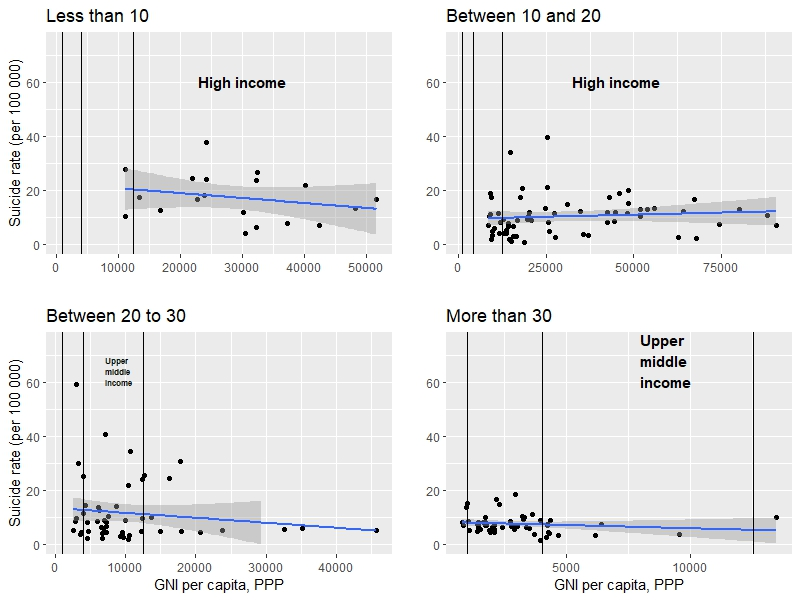

What the dashboard file says about the page in this screenshot:
{"tool":"powerbi","page":{"name":"Page 2","canvas":[1280,720],"ordinal":1},"visuals":[{"type":"scatterChart","title":"Birth rate less than 10 (per 1000)","fields":{"X":["suicide_gni_birth.avg_gni"],"Y":["suicide_gni_birth.avg_birth_rate"]},"box":[9.7,0,640,359.9],"z":0},{"type":"scatterChart","title":"Birth rate between 10 and 20 (per 1000)","fields":{"X":["suicide_gni_birth.avg_gni"],"Y":["suicide_gni_birth.avg_birth_rate"]},"box":[640,0,640,359.9],"z":1},{"type":"scatterChart","title":"Birth rate less between 20 and 30 (per 1000)","fields":{"X":["suicide_gni_birth.avg_gni"],"Y":["suicide_gni_birth.avg_birth_rate"]},"box":[0,359.9,640,359.9],"z":2},{"type":"scatterChart","title":"Birth rate more than 40 (per 1000)","fields":{"X":["suicide_gni_birth.avg_gni"],"Y":["suicide_gni_birth.avg_birth_rate"]},"box":[640,359.9,640,359.9],"z":3}]}

Visuals, with their boxes on the page's 1280x720 design canvas (x1, y1, x2, y2). These are canvas units, not pixel positions in the 800x600 screenshot, which may show the page scaled, cropped or inside an application window:
"Birth rate less than 10 (per 1000)" scatterChart: bbox(10, 0, 650, 360)
"Birth rate between 10 and 20 (per 1000)" scatterChart: bbox(640, 0, 1280, 360)
"Birth rate less between 20 and 30 (per 1000)" scatterChart: bbox(0, 360, 640, 720)
"Birth rate more than 40 (per 1000)" scatterChart: bbox(640, 360, 1280, 720)
